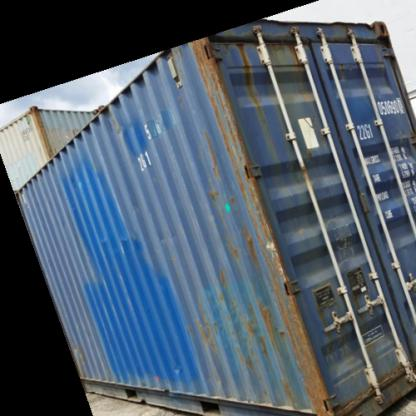Damage: (197, 301, 289, 373), (192, 35, 236, 114), (240, 222, 286, 278), (244, 49, 274, 128), (198, 127, 226, 204), (93, 229, 142, 251)
